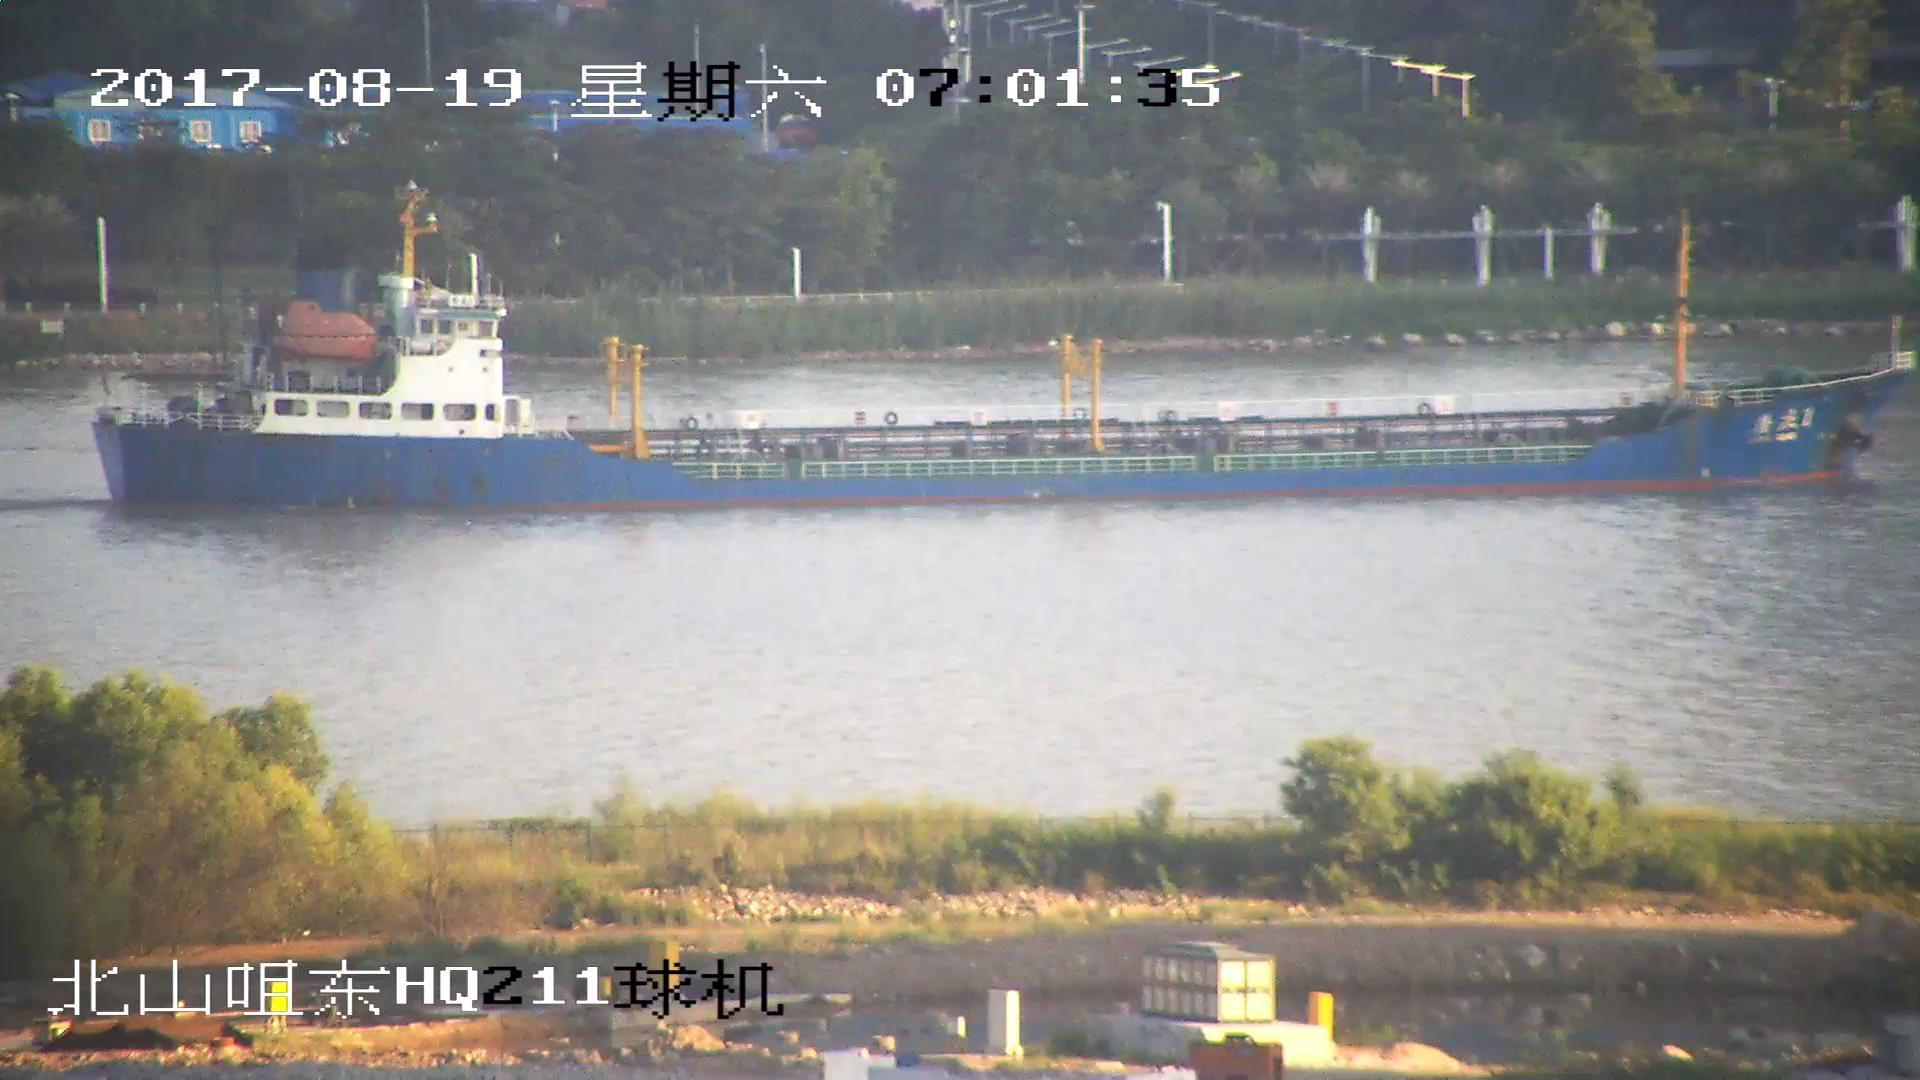Ship: (92, 203, 1909, 509)
